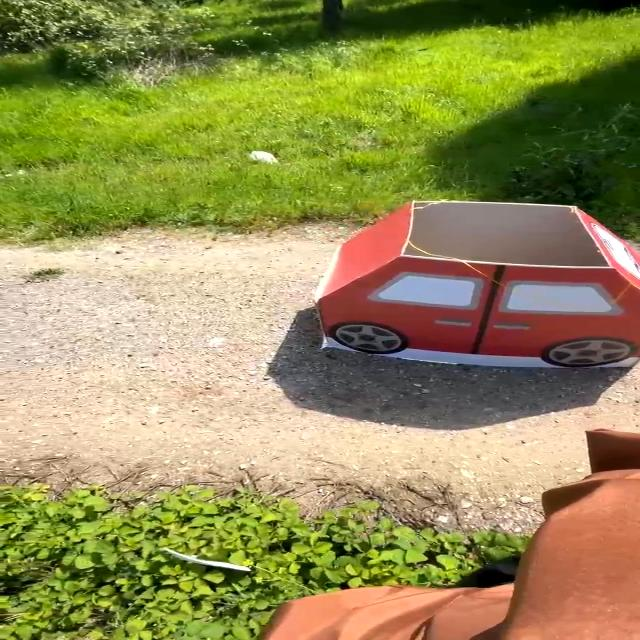red_car: (304, 185, 640, 386)
